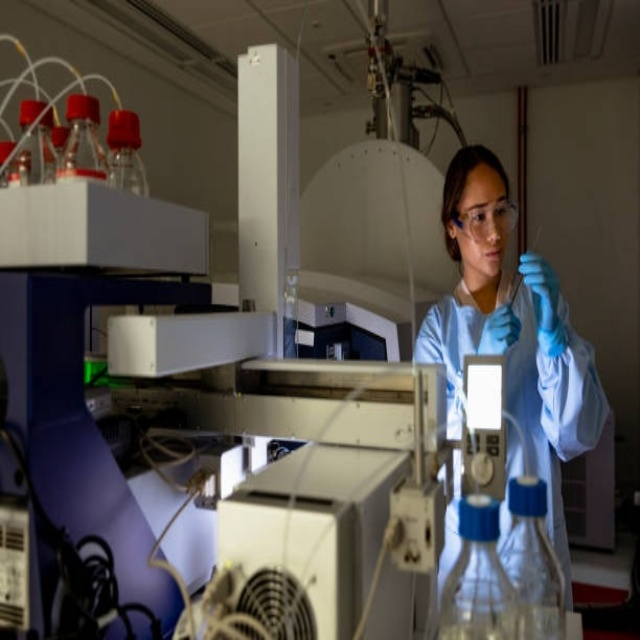Gafas: (452, 199, 518, 242)
Guantes: (518, 251, 570, 357), (478, 305, 520, 357)
Sin_mascara: (476, 243, 507, 276)
